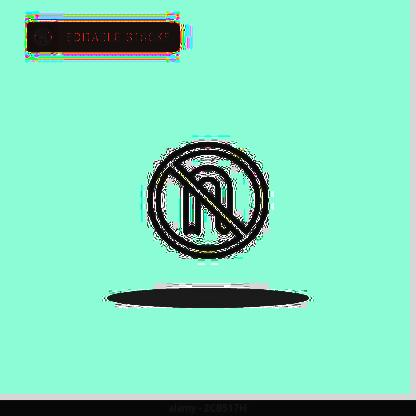No U-turn: (143, 138, 271, 263)
